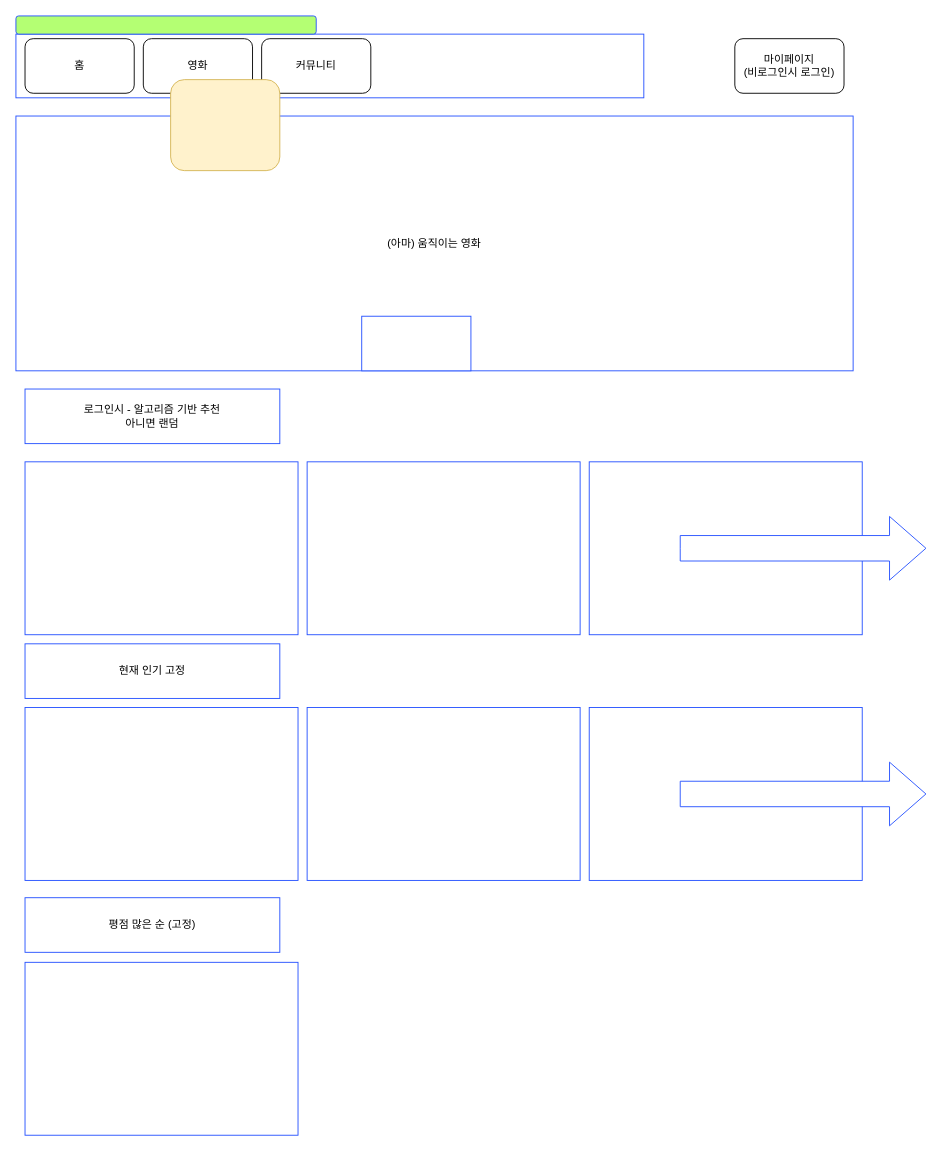
Image size: 942x1151. Some labels were removed from this diagram. The shapes that lost their labels are listed below. From the top down, each one's centre as x and y in pixels, then its label:
At [165,24]: "navbar".
At [225,125]: "전체 영화 태그라인 추천".
